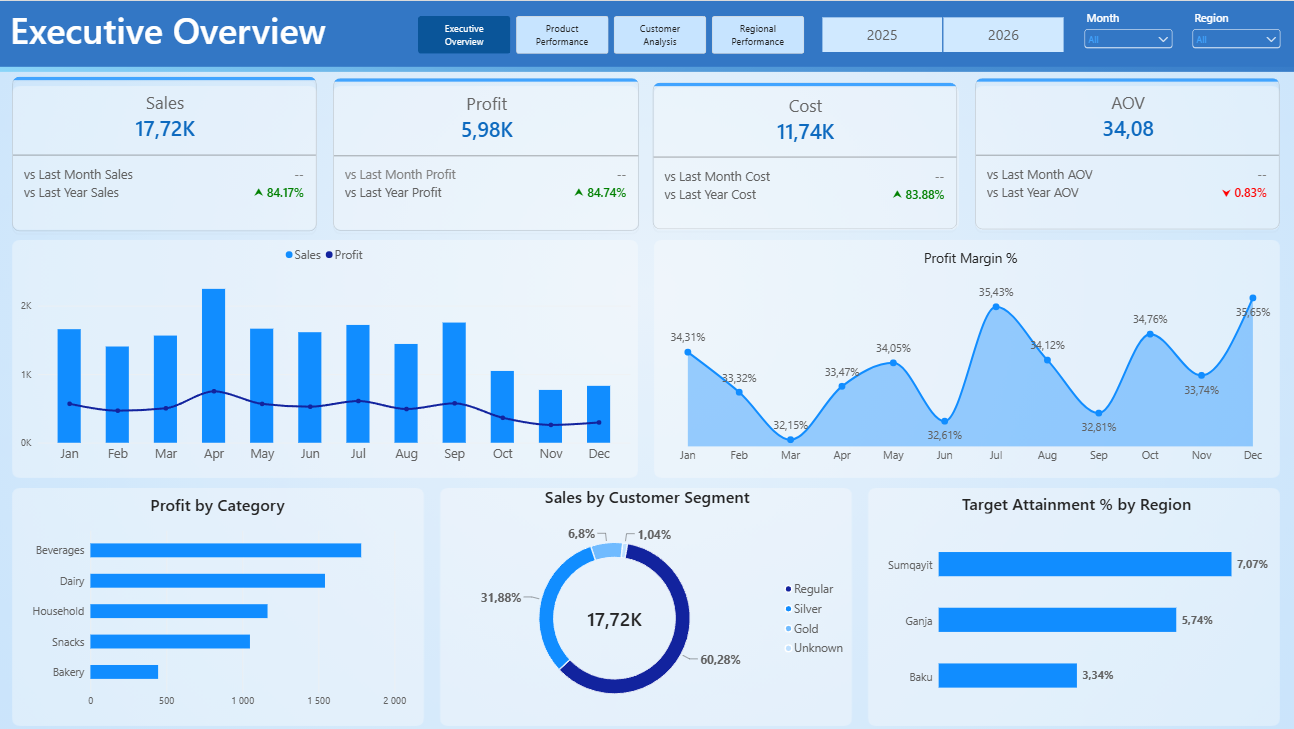

The page's visual inventory and layout, read from the dashboard file:
{"tool":"powerbi","page":{"name":"Executive Overview","canvas":[1920,1080],"ordinal":0},"visuals":[{"type":"cardVisual","fields":{"Data":["_Measures.Sales"]},"box":[14.6,107.4,463.6,233.4],"z":0},{"type":"cardVisual","fields":{"Data":["_Measures.Cost"]},"box":[964.2,115,463.6,231.8],"z":1000},{"type":"cardVisual","fields":{"Data":["_Measures.Profit"]},"box":[491.2,109.8,463.6,234.2],"z":2000},{"type":"cardVisual","fields":{"Data":["_Measures.AOV"]},"box":[1441.9,109,463.6,231.8],"z":3000},{"type":"slicer","fields":{"Values":["DimDate.MonthName"]},"box":[1605,12.5,140,75],"z":4000},{"type":"slicer","fields":{"Values":["DimRegion.Region"]},"box":[1765,12.5,140,72.5],"z":5000},{"type":"slicer","fields":{"Values":["DimDate.Year"]},"box":[1200,22.5,397.5,55],"z":6000},{"type":"lineClusteredColumnComboChart","title":"Sales and Profit by Month","fields":{"Category":["DimDate.MonthName"],"Y":["_Measures.Sales"],"Y2":["_Measures.Profit"]},"box":[17.5,345,935,360],"z":7000},{"type":"areaChart","title":"Profit Margin % ","fields":{"Category":["DimDate.MonthName"],"Y":["_Measures.Profit Margin %"]},"box":[975,352.5,930,352.5],"z":8000},{"type":"clusteredBarChart","title":"Profit by Category","fields":{"Category":["ProductTypes.ProductType"],"Y":["_Measures.Profit"]},"box":[29.2,715,592.5,351.7],"z":9000},{"type":"donutChart","title":"Sales by Customer Segment","fields":{"Category":["Customers.Segment"],"Y":["_Measures.Sales"]},"box":[662.5,718.3,599.2,345],"z":10000},{"type":"clusteredBarChart","fields":{"Category":["DimRegion.Region"],"Y":["_Measures.Target Attainment %"]},"box":[1295.8,713.3,605,358.3],"z":11000},{"type":"textbox","box":[18.3,6.7,501.7,82.5],"z":12000},{"type":"pageNavigator","box":[622.2,22,573.4,56.1],"z":12001}]}

Visuals, with their boxes in screenshot pixels (x1, y1, x2, y2), scaled from the page's 1920x1080 canvas onto the 1294x729 screenshot:
cardVisual - _Measures.Sales: 10 72 322 230
cardVisual - _Measures.Cost: 650 78 962 234
cardVisual - _Measures.Profit: 331 74 643 232
cardVisual - _Measures.AOV: 972 74 1284 230
slicer - DimDate.MonthName: 1082 8 1176 59
slicer - DimRegion.Region: 1190 8 1284 57
slicer - DimDate.Year: 809 15 1077 52
"Sales and Profit by Month" lineClusteredColumnComboChart: 12 233 642 476
"Profit Margin % " areaChart: 657 238 1284 476
"Profit by Category" clusteredBarChart: 20 483 419 720
"Sales by Customer Segment" donutChart: 446 485 850 718
clusteredBarChart - DimRegion.Region x _Measures.Target Attainment %: 873 481 1281 723
textbox: 12 5 350 60
pageNavigator: 419 15 806 53
